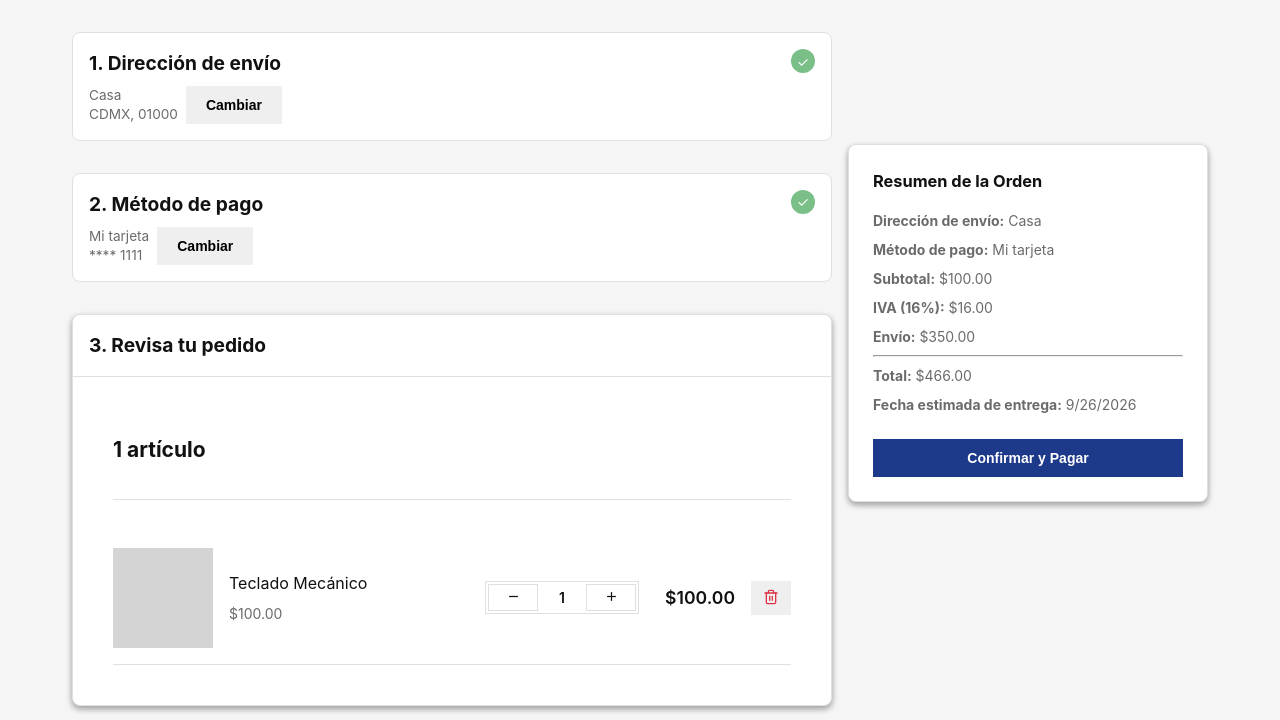
Scenario: Checkout › muestra un error y reactiva el botón si la creación de la orden falla
The image size is (1280, 720).
Click the button with test id "checkout-confirm-button" at (1028, 458), box [873,439,1183,477]
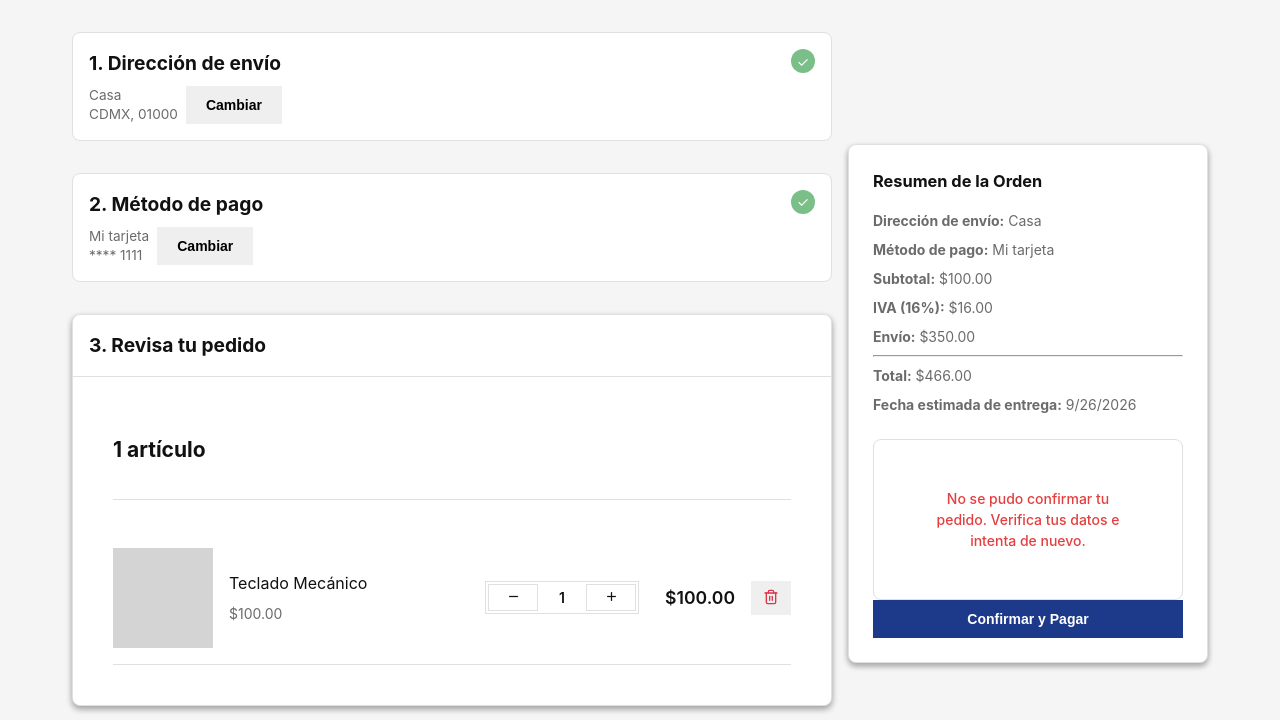
Expected: the button with test id "checkout-confirm-button" is enabled, [873,600,1183,638]
Result: the text with test id "checkout-order-error" is shown at [873,439,1183,600]
